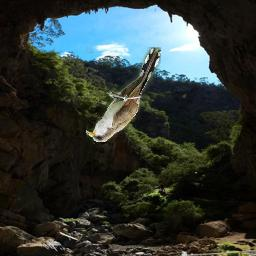Cuckoo: (87, 48, 162, 143)
